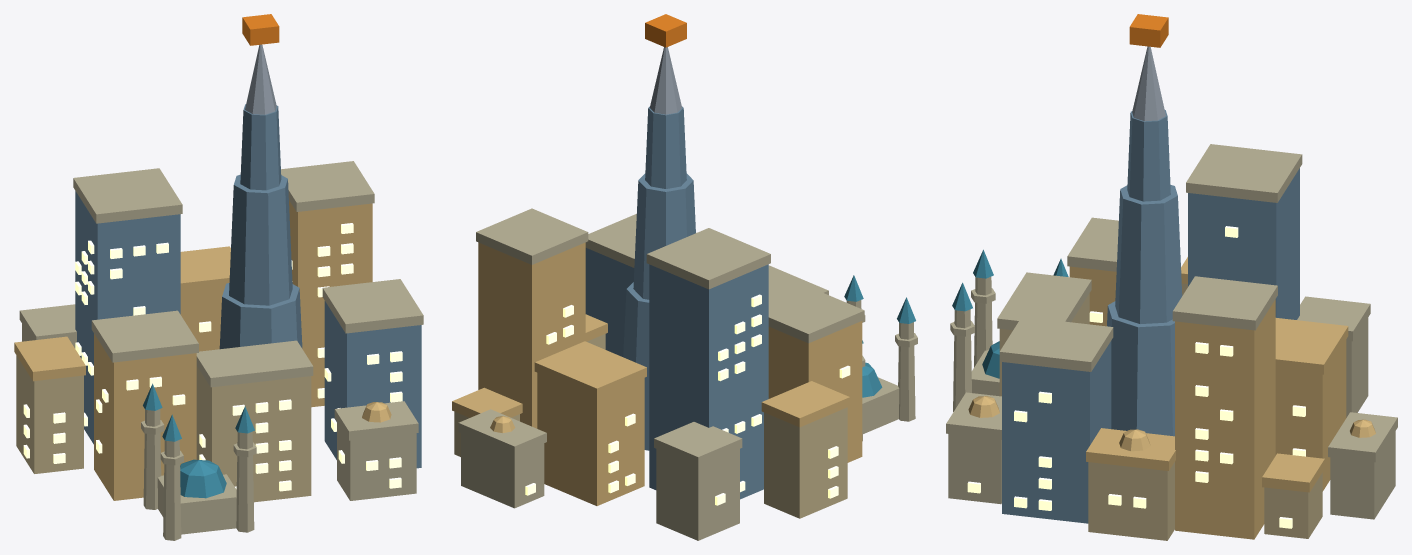
File: overworld-settlement-middle-eastern-city.glb
3 renders of one model, left to right at view 1: azimuth 30°, elevation 25°; view 2: azimuth 150°, elevation 25°; view 3: azimuth 270°, elevation 25°, orthographic. The views are drawn at different scales.
Visible parts, largest first — view 1: settlement; view 2: settlement; view 3: settlement.
Part boxes in pixels (x1,y1,x2,y2): settlement: (14,14,423,540); settlement: (452,14,917,540); settlement: (946,14,1397,540).
Bounding box in the file's own units: 0.4747 × 0.537 × 0.4949.
